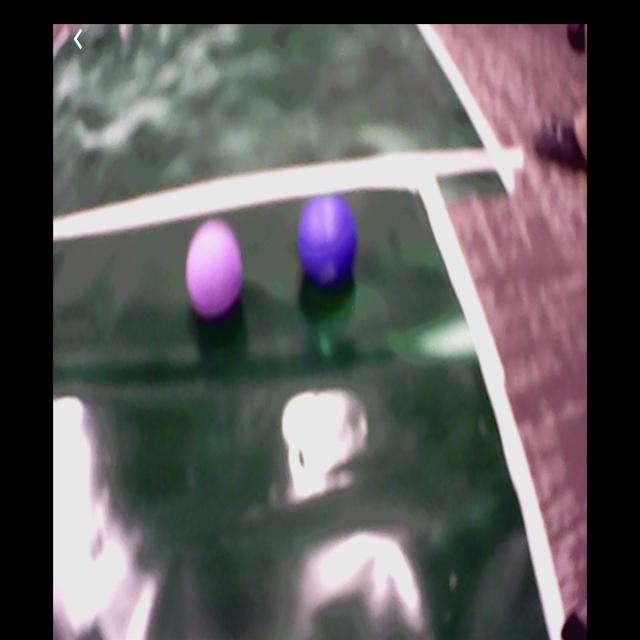ball: (187, 221, 244, 317), (301, 196, 357, 285)
